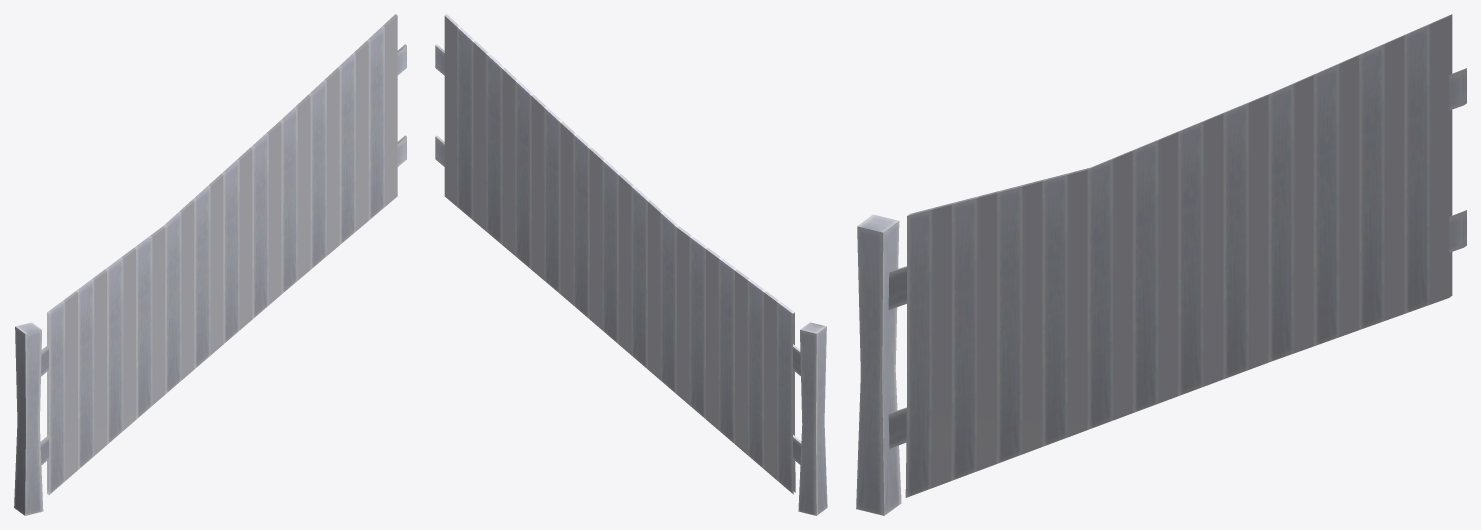
The model's file is INST_HTOWN_FENCEWHT30DEG.fbx.
3 views of the same model, side by side, from view 1: azimuth 30°, elevation 25°; view 2: azimuth 150°, elevation 25°; view 3: azimuth 330°, elevation 25° (orthographic). The views are drawn at different scales.
Parts seen in each view (by area): view 1: INST_HTOWN_FENCEWHT30DEG; view 2: INST_HTOWN_FENCEWHT30DEG; view 3: INST_HTOWN_FENCEWHT30DEG.
Boxes of the visible parts, x1,y1,x2,y2 form: INST_HTOWN_FENCEWHT30DEG: (14,14,406,515); INST_HTOWN_FENCEWHT30DEG: (435,14,827,515); INST_HTOWN_FENCEWHT30DEG: (856,14,1466,515).
Bounding box in the file's own units: 30448 × 30538 × 1509.
2 materials, 2 textured.
